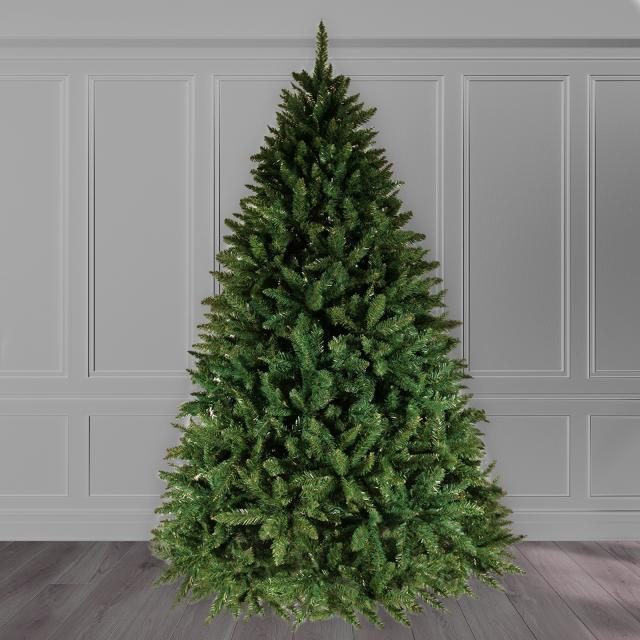Christmas-tree: (80, 4, 574, 640)
